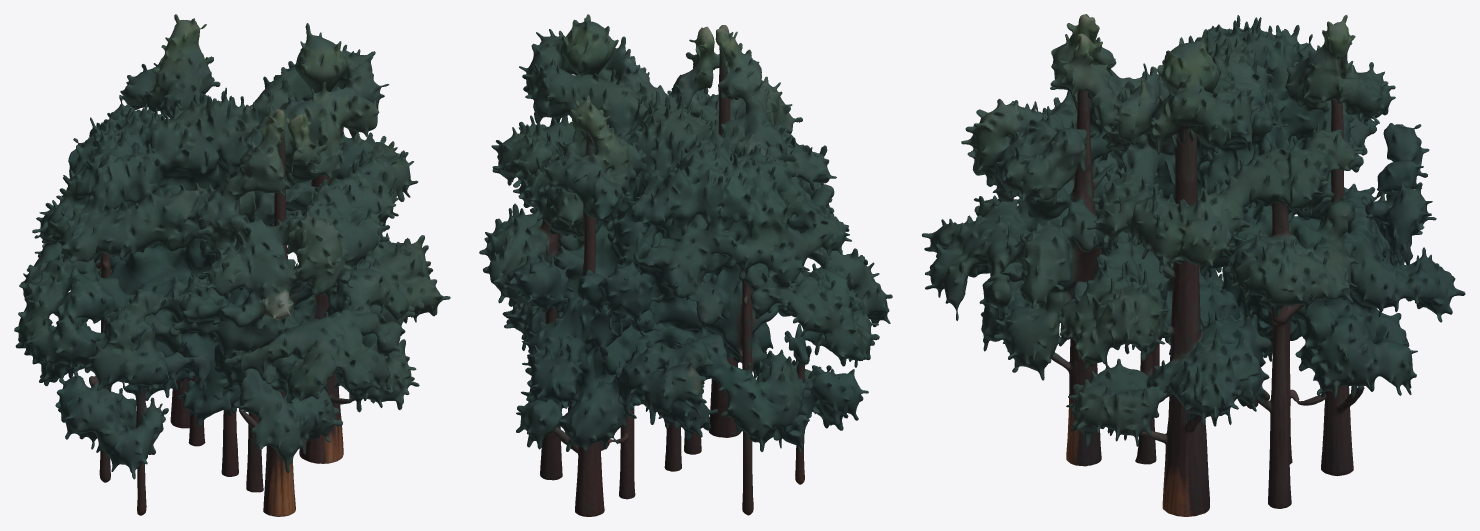
Rendered from redwood_canopy.glb.
3 renders of one model, left to right at view 1: azimuth 30°, elevation 25°; view 2: azimuth 150°, elevation 25°; view 3: azimuth 270°, elevation 25°, orthographic. The views are drawn at different scales.
Visible parts, largest first — view 1: tripo_node_7c2d29a1-1323-4224-b31f-6978b40db66c; view 2: tripo_node_7c2d29a1-1323-4224-b31f-6978b40db66c; view 3: tripo_node_7c2d29a1-1323-4224-b31f-6978b40db66c.
Boxes of the visible parts, <box> form: tripo_node_7c2d29a1-1323-4224-b31f-6978b40db66c: <box>14,14,450,516</box>; tripo_node_7c2d29a1-1323-4224-b31f-6978b40db66c: <box>479,14,892,516</box>; tripo_node_7c2d29a1-1323-4224-b31f-6978b40db66c: <box>922,14,1465,516</box>.
Bounding box in the file's own units: 0.8922 × 0.9708 × 1.
1 material, 1 textured.
